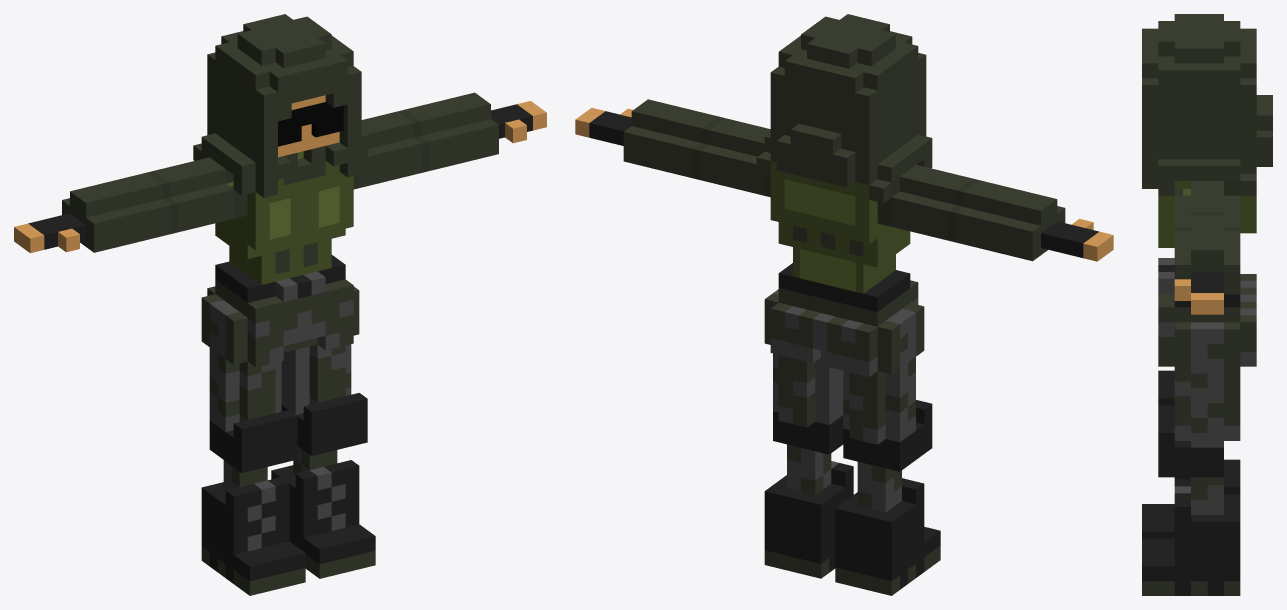
The model's file is Character-0.obj.
3 renders of one model, left to right at view 1: azimuth 30°, elevation 25°; view 2: azimuth 150°, elevation 25°; view 3: azimuth 270°, elevation 25°, orthographic.
Parts seen in each view (by area): view 1: Character-0.001; view 2: Character-0.001; view 3: Character-0.001.
Boxes of the visible parts, bbox=[...] form: Character-0.001: bbox=[14, 14, 546, 595]; Character-0.001: bbox=[575, 14, 1113, 595]; Character-0.001: bbox=[1142, 14, 1272, 595].
Bounding box in the file's own units: 7.4 × 7.2 × 1.6.
1 material, 1 textured.
